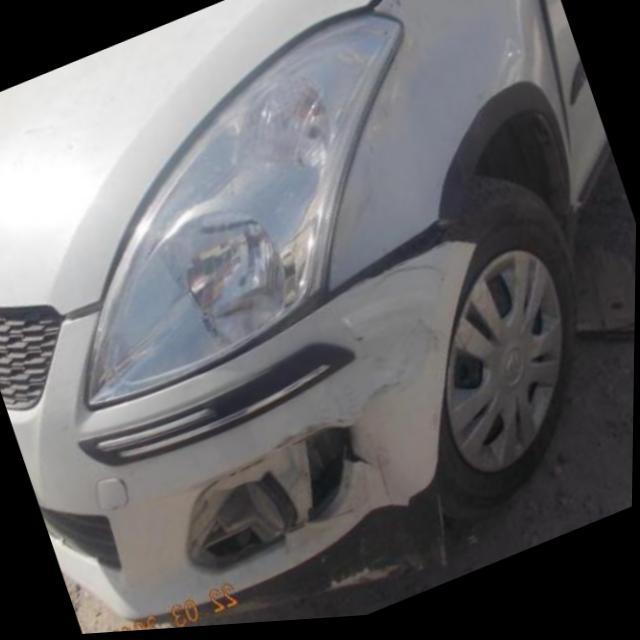dislocated part: (102, 217, 474, 628), (532, 0, 579, 175)
lamp broken: (173, 379, 399, 577)
